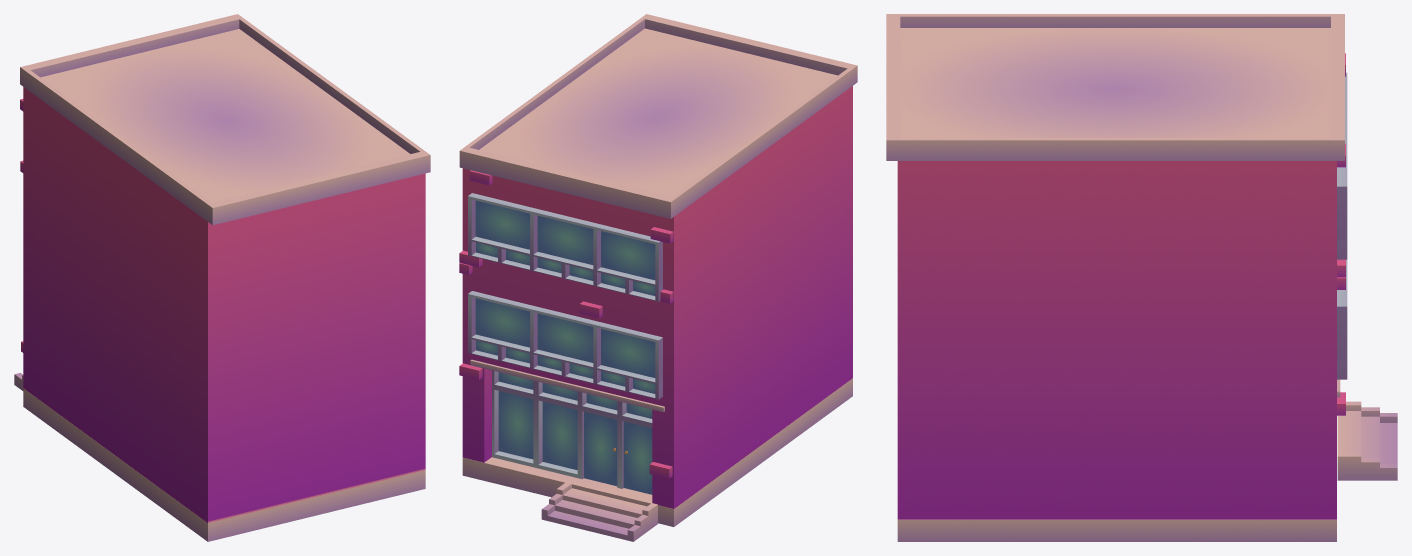
3 renders of one model, left to right at view 1: azimuth 30°, elevation 25°; view 2: azimuth 150°, elevation 25°; view 3: azimuth 270°, elevation 25°, orthographic. The views are drawn at different scales.
Parts seen in each view (by area): view 1: SM_3F_R_03; view 2: SM_3F_R_03; view 3: SM_3F_R_03.
Part boxes in pixels (x1=…): SM_3F_R_03: x1=14, y1=14, x2=430, y2=541; SM_3F_R_03: x1=459, y1=14, x2=857, y2=541; SM_3F_R_03: x1=886, y1=14, x2=1397, y2=541.
Bounding box in the file's own units: 7.71 × 13.17 × 11.44.
